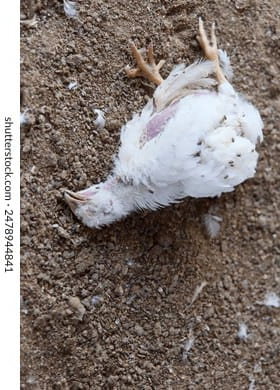Unhealthy: (45, 18, 263, 233)
